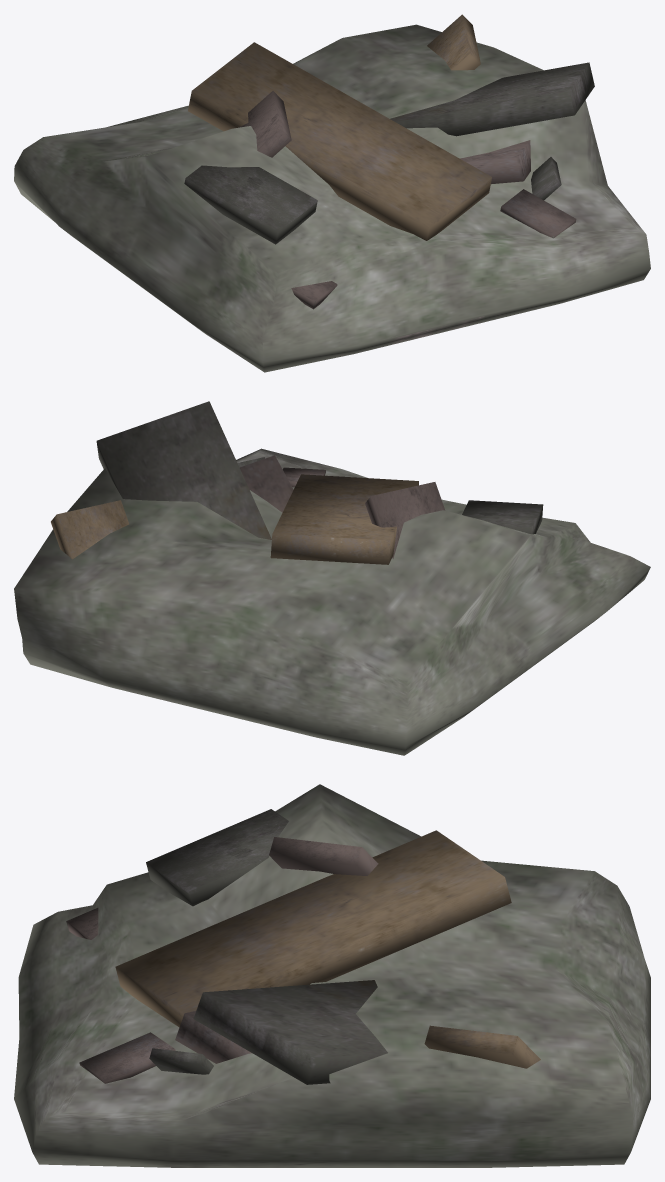
Rendered from detritos1.glb.
3 renders of one model, top to bottom at view 1: azimuth 30°, elevation 25°; view 2: azimuth 150°, elevation 25°; view 3: azimuth 270°, elevation 25°, orthographic. The views are drawn at different scales.
Visible parts, largest first — view 1: Cube.005; view 2: Cube.005; view 3: Cube.005.
Boxes of the visible parts, bbox=[...] form: Cube.005: bbox=[14, 14, 650, 372]; Cube.005: bbox=[14, 401, 650, 755]; Cube.005: bbox=[14, 784, 650, 1167].
Bounding box in the file's own units: 2 × 0.6295 × 2.
Materials: 1 (1 with a texture image).
